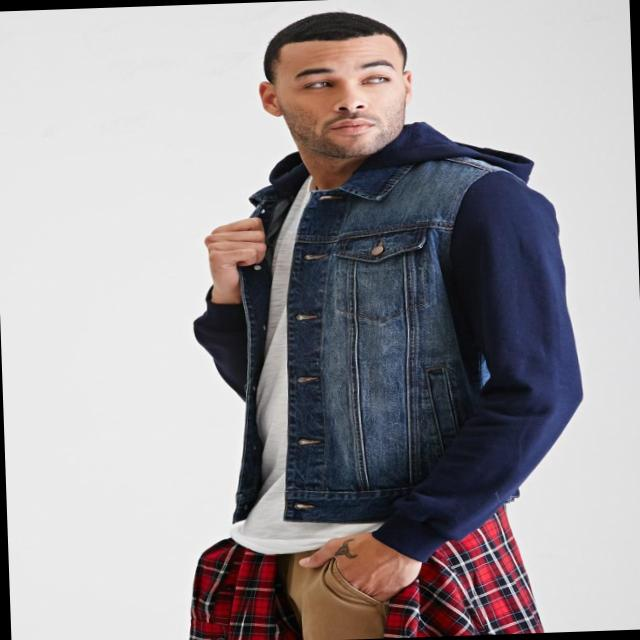Jacket: (198, 133, 602, 536)
